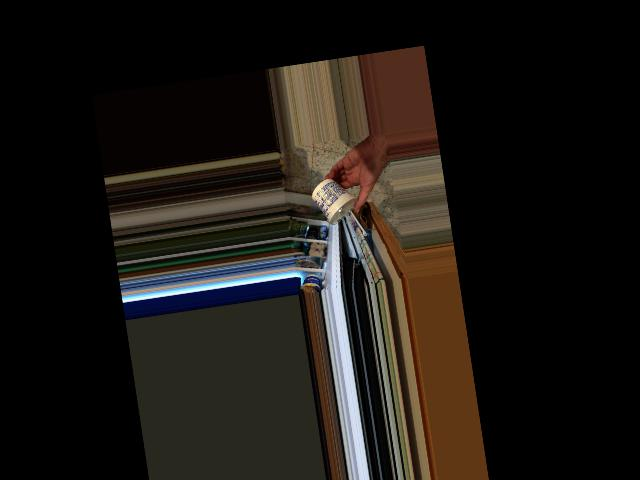cotage: (314, 173, 360, 228)
